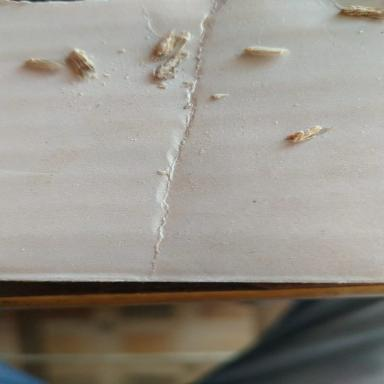pbw: (330, 0, 382, 21), (151, 51, 188, 79), (64, 48, 96, 79), (284, 125, 334, 142), (152, 28, 176, 60), (23, 58, 65, 70), (243, 46, 288, 56)
